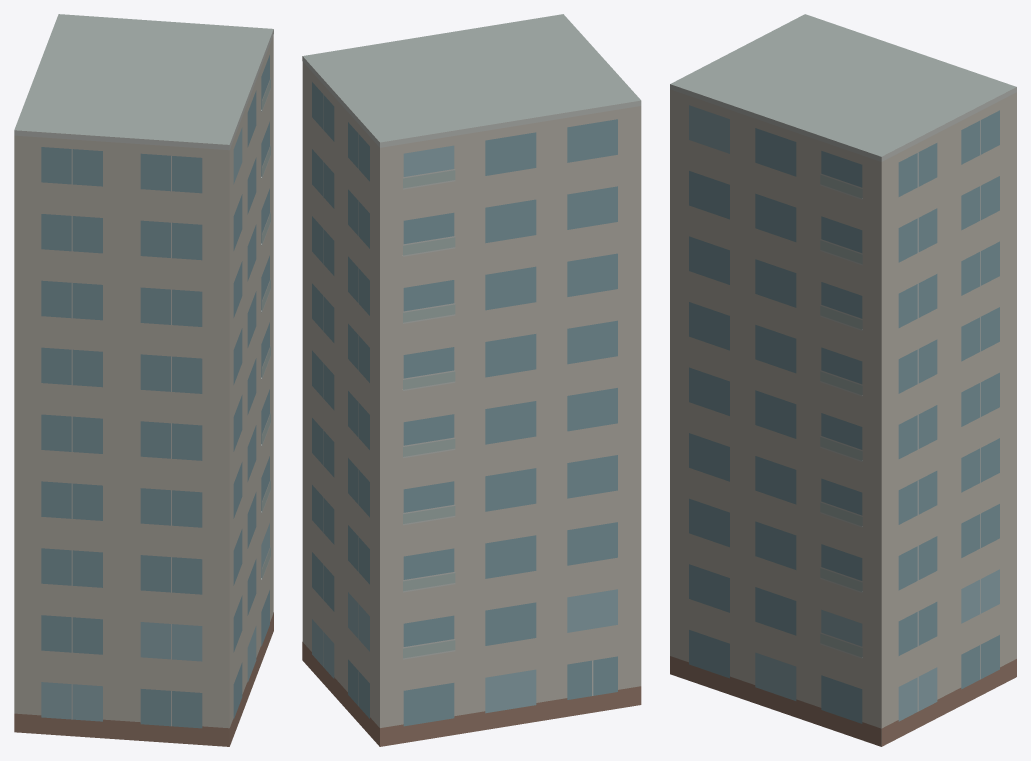
File: survey-upis-33046924.glb
3 renders of one model, left to right at view 1: azimuth 30°, elevation 25°; view 2: azimuth 150°, elevation 25°; view 3: azimuth 270°, elevation 25°, orthographic. The views are drawn at different scales.
Visible parts, largest first — view 1: survey-upis-33046924.tmp; view 2: survey-upis-33046924.tmp; view 3: survey-upis-33046924.tmp.
Boxes of the visible parts, x1,y1,x2,y2 form: survey-upis-33046924.tmp: (14, 14, 273, 746); survey-upis-33046924.tmp: (302, 14, 641, 746); survey-upis-33046924.tmp: (670, 14, 1016, 746).
Bounding box in the file's own units: 14.39 × 27.7 × 14.76.
